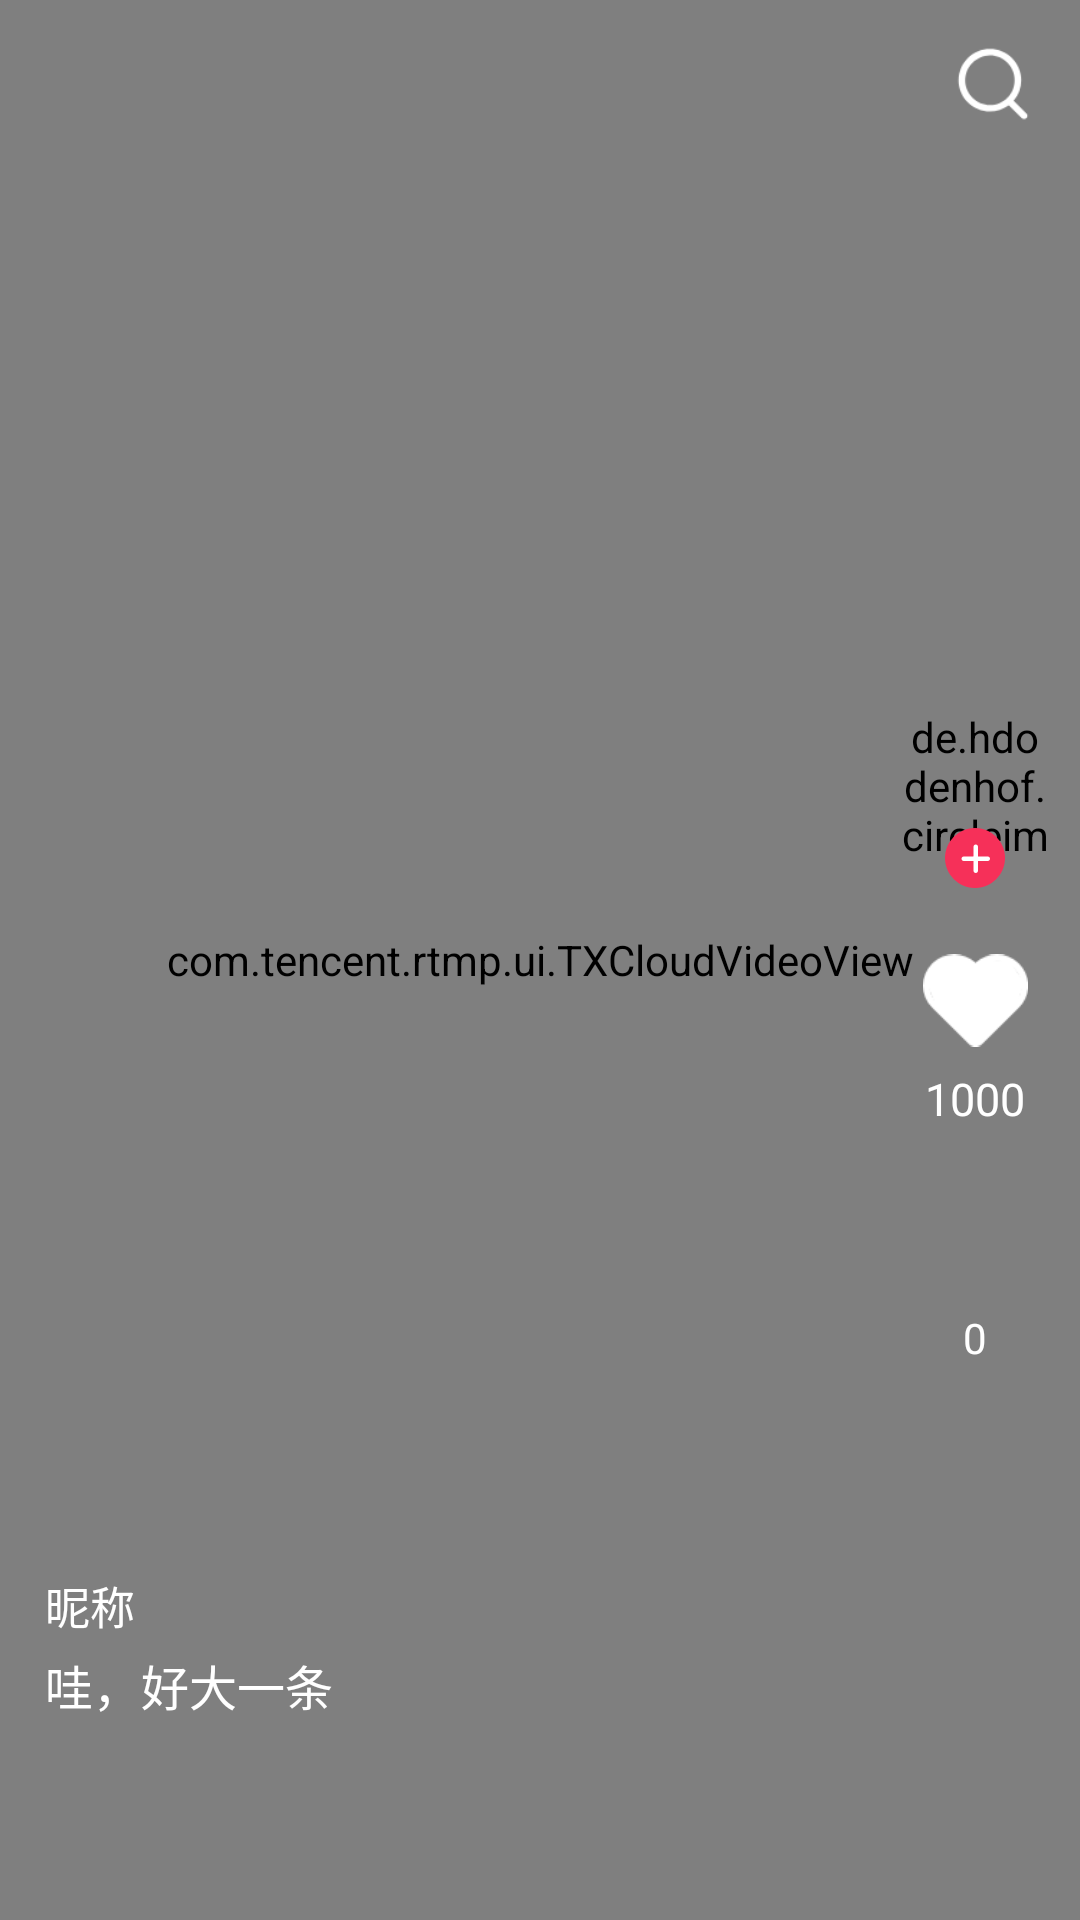

Icon click points for this 1080 x 1920 phone screenshot, format (x,y):
heart false: (975,1000)
plus: (975,858)
search: (993,84)
